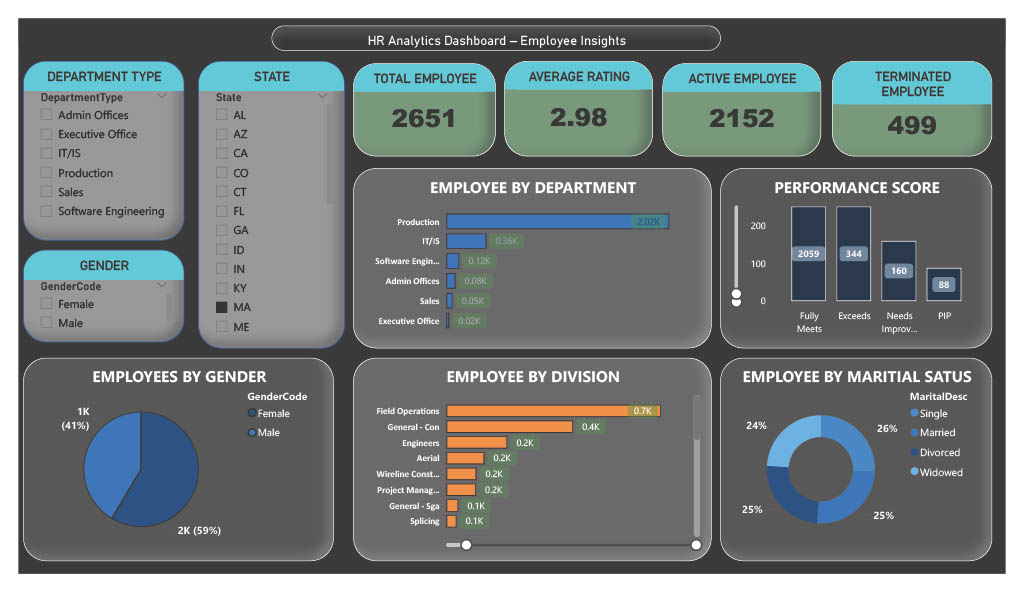

This screenshot's page, from the dashboard's own definition file:
{"tool":"powerbi","page":{"name":"Page 1","canvas":[1280,720],"ordinal":0},"visuals":[{"type":"card","title":"TOTAL EMPLOYEE","fields":{"Values":["employee_data.Total Employee"]},"box":[433.8,57.5,185,121.2],"z":0},{"type":"card","title":"AVERAGE RATING","fields":{"Values":["employee_data.Avg Rating"]},"box":[630,55,192.5,123.8],"z":1000},{"type":"card","title":"ACTIVE EMPLOYEE","fields":{"Values":["employee_data.Active Employee"]},"box":[835,57.5,206.2,121.2],"z":2000},{"type":"clusteredBarChart","title":"EMPLOYEE BY DEPARTMENT","fields":{"Y":["CountNonNull(employee_data.EmpID)"],"Category":["employee_data.DepartmentType"]},"box":[433.8,193.8,465,233.8],"z":3000},{"type":"pieChart","title":"EMPLOYEES BY GENDER","fields":{"Category":["employee_data.GenderCode"],"Y":["CountNonNull(employee_data.EmpID)"]},"box":[6.2,440,402.5,263.8],"z":4000},{"type":"clusteredColumnChart","title":"PERFORMANCE SCORE","fields":{"Category":["employee_data.Performance Score"],"Y":["CountNonNull(employee_data.EmpID)"]},"box":[910,193.8,352.5,233.8],"z":5000},{"type":"donutChart","title":"EMPLOYEE BY MARITIAL SATUS","fields":{"Category":["employee_data.MaritalDesc"],"Y":["CountNonNull(employee_data.EmpID)"]},"box":[910,440,352.5,263.8],"z":6000},{"type":"clusteredBarChart","title":"EMPLOYEE BY DIVISION","fields":{"Category":["employee_data.Division"],"Y":["CountNonNull(employee_data.EmpID)"]},"box":[433.8,440,465,263.8],"z":7000},{"type":"card","title":"TERMINATED EMPLOYEE","fields":{"Values":["employee_data.Inctive Employees"]},"box":[1055,55,207.5,123.8],"z":8000},{"type":"slicer","title":"DEPARTMENT TYPE","fields":{"Values":["employee_data.DepartmentType"]},"box":[6.2,55,208.8,232.5],"z":9000},{"type":"slicer","title":"GENDER","fields":{"Values":["employee_data.GenderCode"]},"box":[6.2,300,208.8,120],"z":10000},{"type":"slicer","title":"STATE","fields":{"Values":["employee_data.State"]},"box":[232.5,55,190,372.5],"z":10001},{"type":"textbox","title":"HR Analytics Dashboard – Employee Insights","box":[327.8,8.9,583.3,33.3],"z":10002}]}

Visuals, with their boxes in screenshot pixels (x1, y1, x2, y2), scaled from the page's 1280x720 canvas onto the 1024x592 screenshot:
"TOTAL EMPLOYEE" card: x1=347, y1=47, x2=495, y2=147
"AVERAGE RATING" card: x1=504, y1=45, x2=658, y2=147
"ACTIVE EMPLOYEE" card: x1=668, y1=47, x2=833, y2=147
"EMPLOYEE BY DEPARTMENT" clusteredBarChart: x1=347, y1=159, x2=719, y2=352
"EMPLOYEES BY GENDER" pieChart: x1=5, y1=362, x2=327, y2=579
"PERFORMANCE SCORE" clusteredColumnChart: x1=728, y1=159, x2=1010, y2=352
"EMPLOYEE BY MARITIAL SATUS" donutChart: x1=728, y1=362, x2=1010, y2=579
"EMPLOYEE BY DIVISION" clusteredBarChart: x1=347, y1=362, x2=719, y2=579
"TERMINATED EMPLOYEE" card: x1=844, y1=45, x2=1010, y2=147
"DEPARTMENT TYPE" slicer: x1=5, y1=45, x2=172, y2=236
"GENDER" slicer: x1=5, y1=247, x2=172, y2=345
"STATE" slicer: x1=186, y1=45, x2=338, y2=352
"HR Analytics Dashboard – Employee Insights" textbox: x1=262, y1=7, x2=729, y2=35
